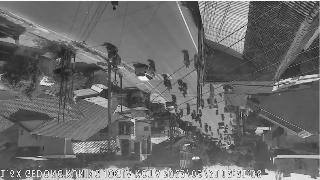mobil: (134, 64, 158, 80)
motor: (104, 42, 118, 60), (180, 48, 190, 70), (148, 57, 158, 74), (166, 78, 174, 96), (160, 74, 170, 88), (176, 76, 184, 92)
